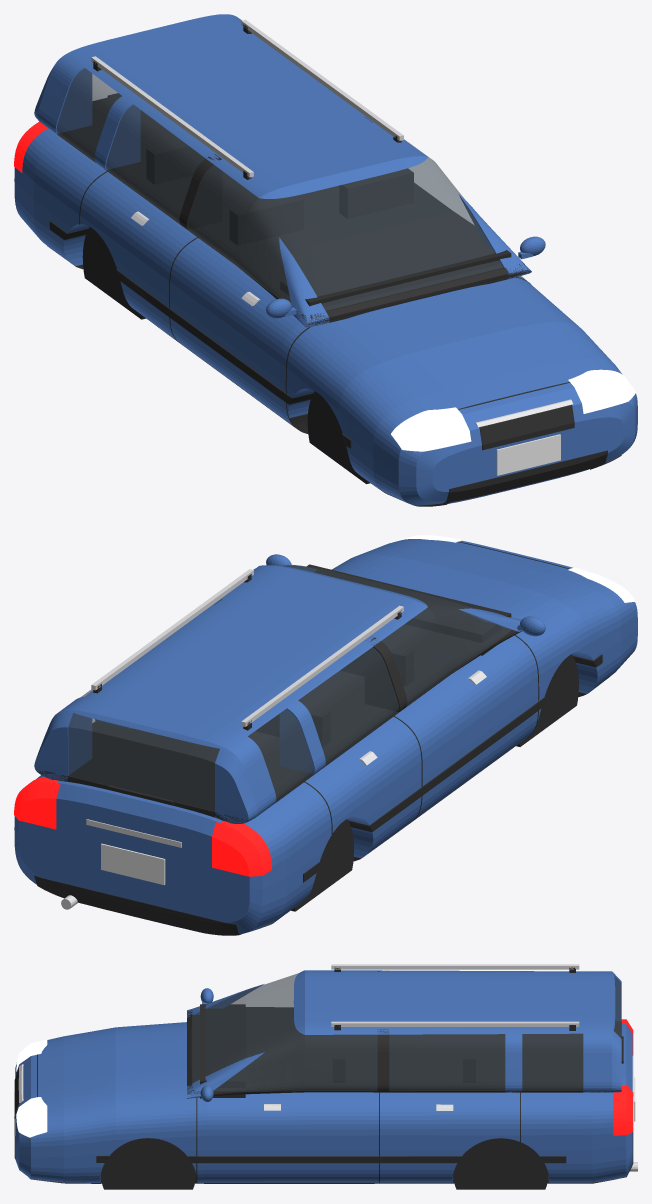
The model's file is ostwind.glb.
3 views of the same model, one above another, from view 1: azimuth 30°, elevation 25°; view 2: azimuth 150°, elevation 25°; view 3: azimuth 270°, elevation 25° (orthographic). The views are drawn at different scales.
Visible parts, largest first — view 1: body_paint, body_trim, body_glass, body_light_front, body_chrome, body_plate; view 2: body_paint, body_trim, body_glass, body_light_rear, body_chrome, body_plate, body_light_front; view 3: body_paint, body_trim, body_glass, body_chrome, body_light_front, body_light_rear.
Boxes of the visible parts, <box> form: body_paint: <box>14,14,637,505</box>; body_trim: <box>39,24,621,506</box>; body_glass: <box>56,68,503,310</box>; body_light_front: <box>391,369,635,451</box>; body_chrome: <box>91,19,572,427</box>; body_plate: <box>496,434,560,475</box>; body_paint: <box>14,539,637,934</box>; body_trim: <box>34,541,609,935</box>; body_glass: <box>68,565,511,811</box>; body_light_rear: <box>14,777,271,876</box>; body_chrome: <box>61,569,486,909</box>; body_plate: <box>101,843,165,885</box>; body_light_front: <box>396,535,635,602</box>; body_paint: <box>15,970,632,1182</box>; body_trim: <box>14,967,633,1189</box>; body_glass: <box>193,973,620,1091</box>; body_chrome: <box>18,964,637,1171</box>; body_light_front: <box>16,1039,47,1137</box>; body_light_rear: <box>613,1019,633,1135</box>.
Size of the model in its own units: 1.93 by 1.32 by 4.78.
